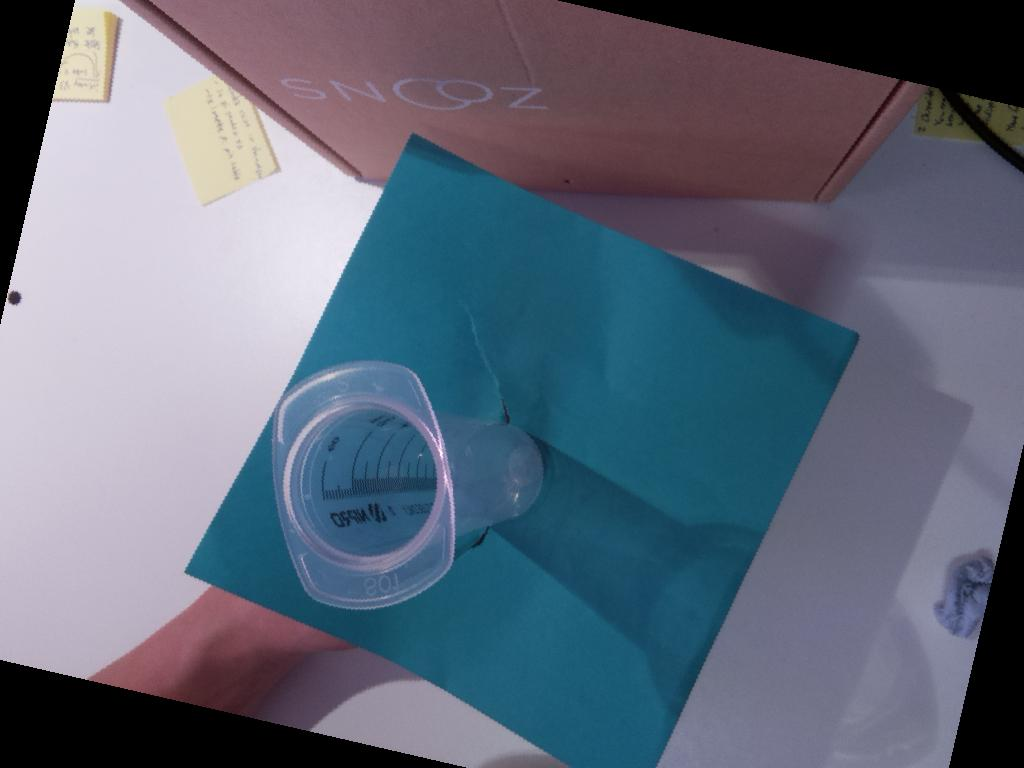clean: (271, 359, 457, 614)
